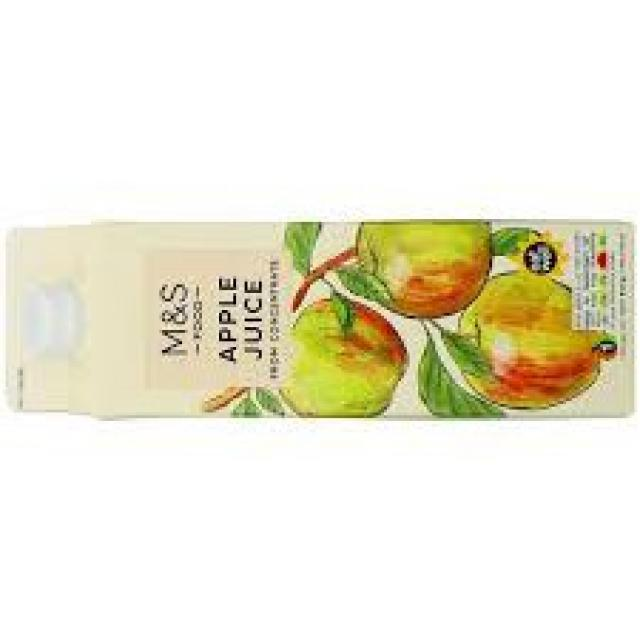non_white_jug: (2, 216, 638, 422)
